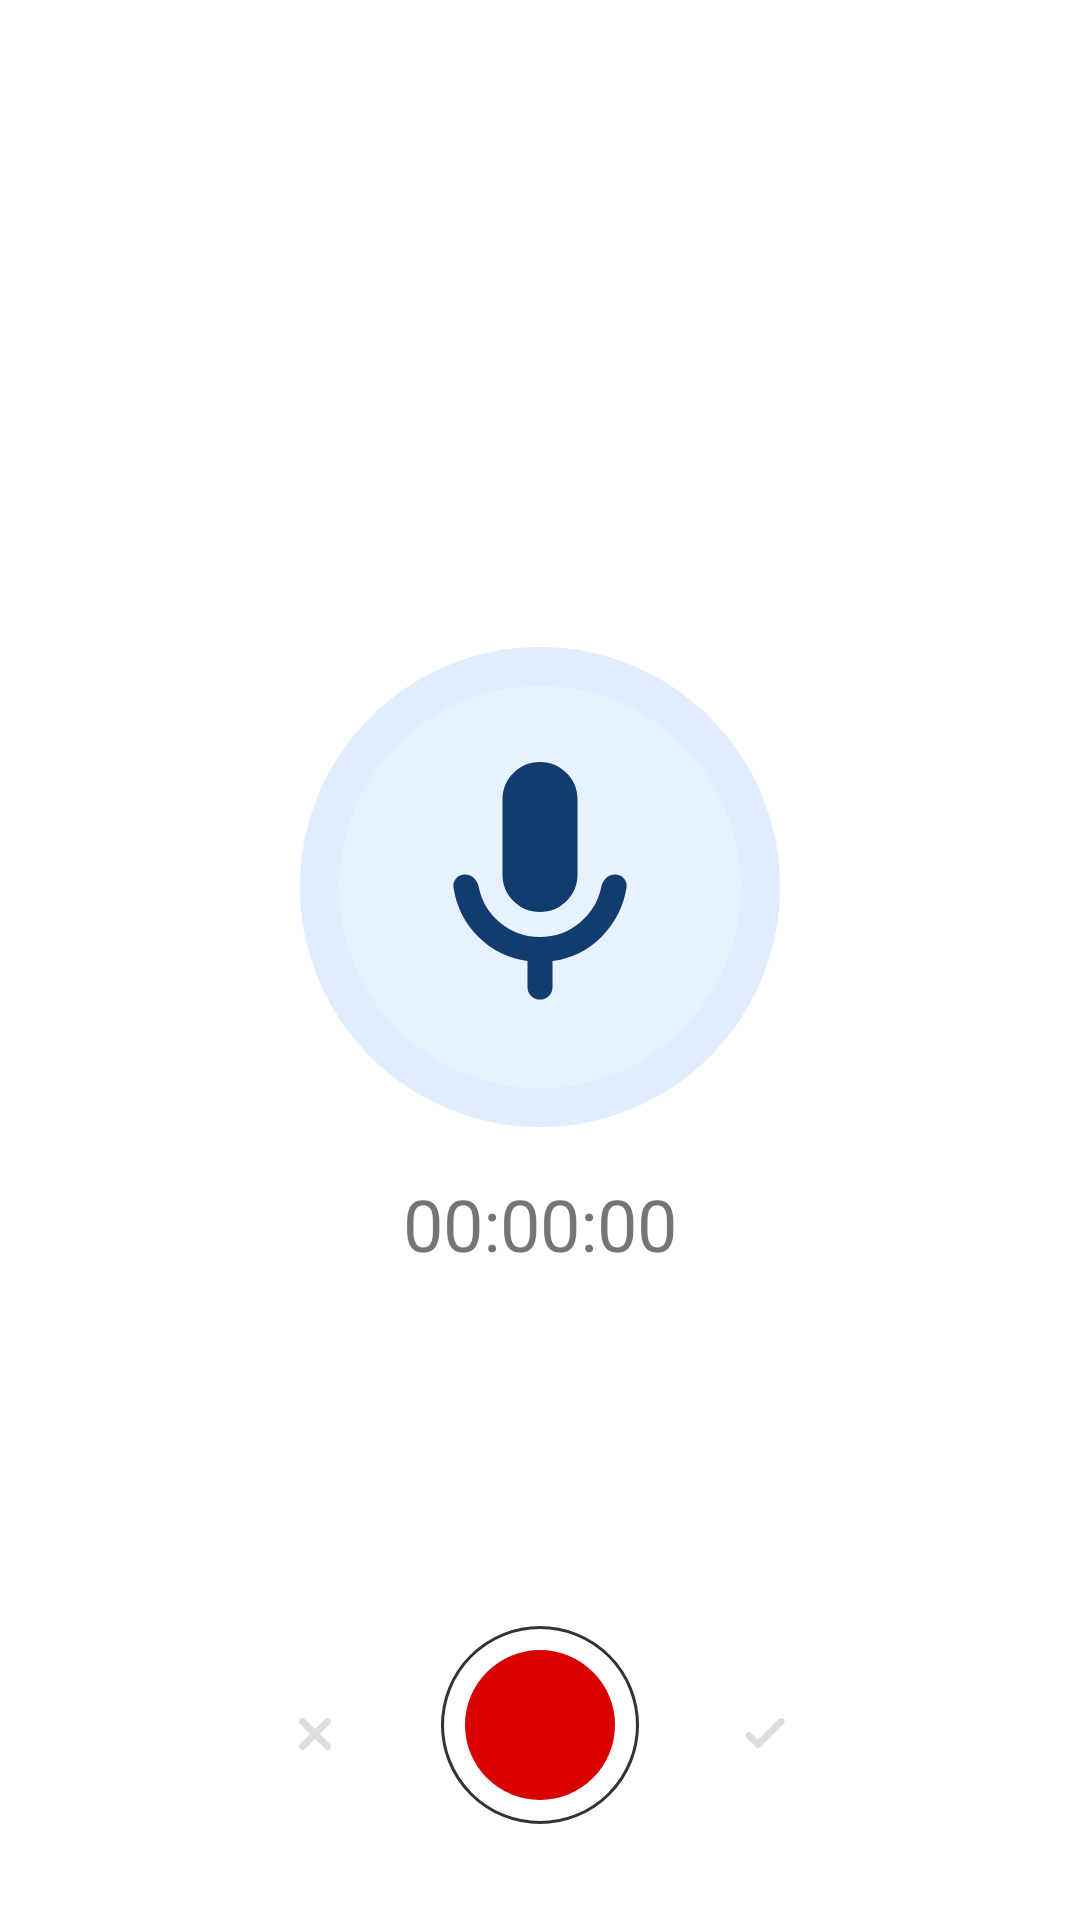

Icon bounding boxes for this 1080×1920 phone screenshot, format bbox=[x1, y1, x2, y2]:
cancel: bbox=[299, 1718, 331, 1750]
